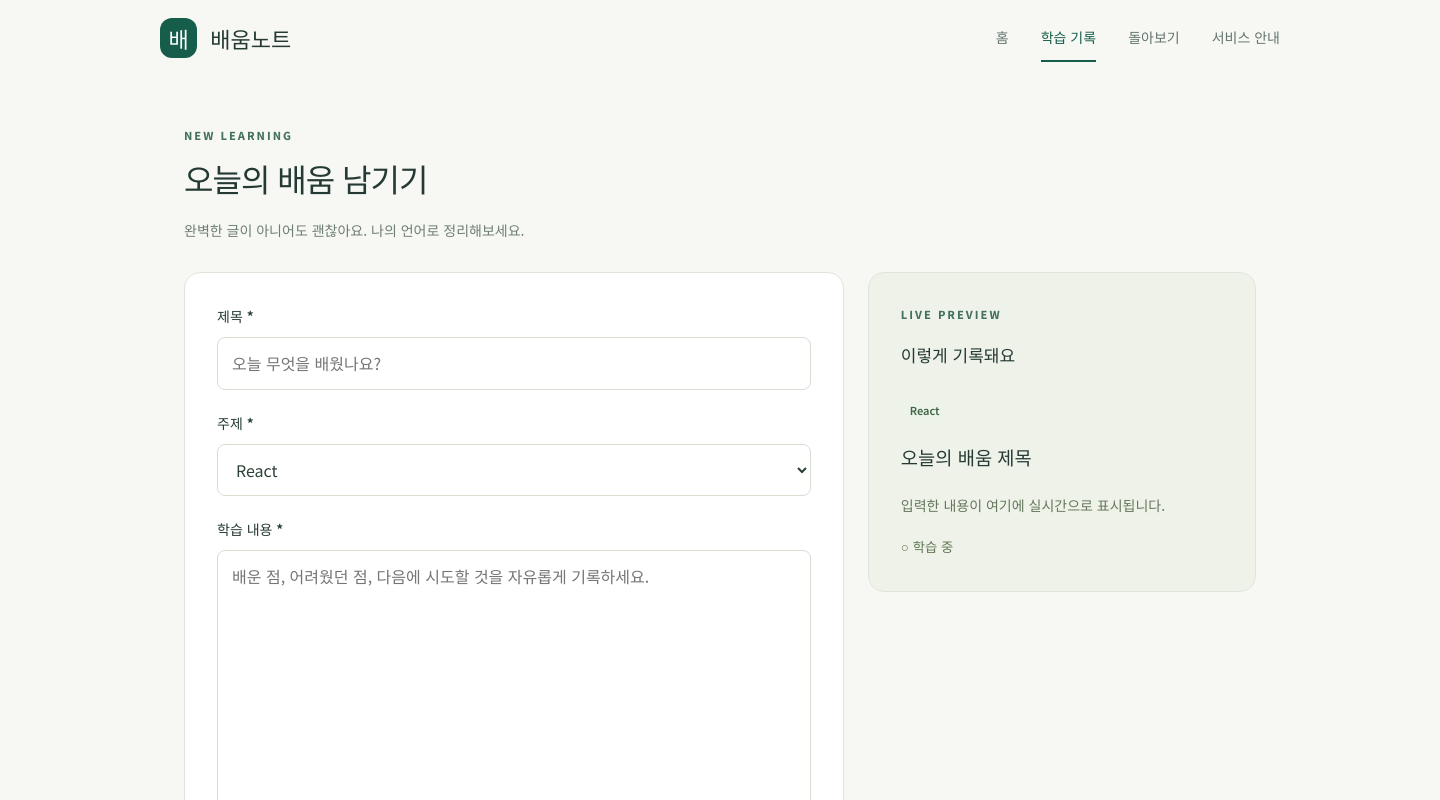
Test: 학습 기록 사용자 흐름 › 저장 실패 시 입력을 유지하고 재시도할 수 있다
The width and height of the screenshot is (1440, 800).
Type "제목" into the field labelled "제목 *". click: point(514, 363)
box: [217,337,811,390]
(page scrolled)
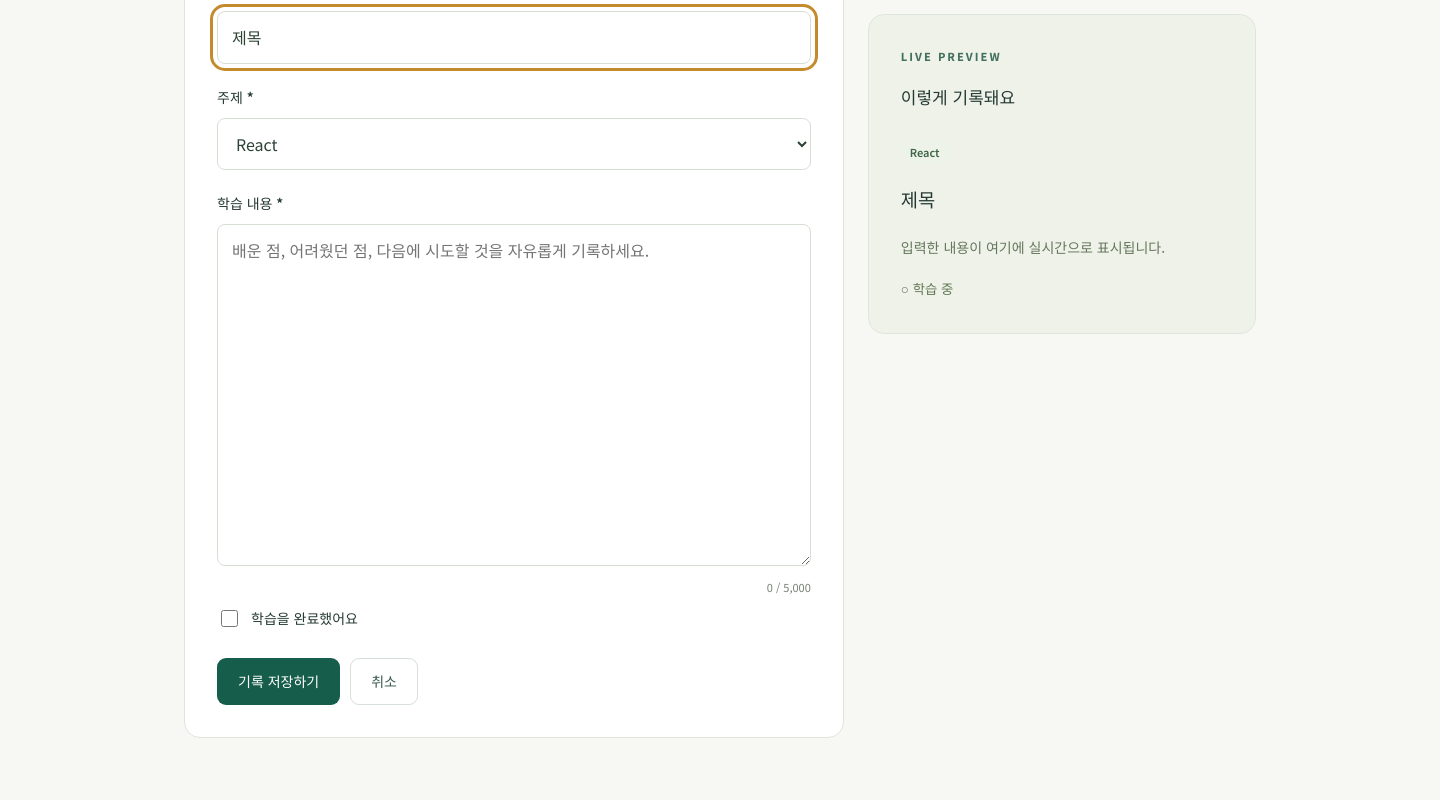
Type "내용" into the text box labelled "학습 내용 *". click: point(514, 395)
box: [217,224,811,566]
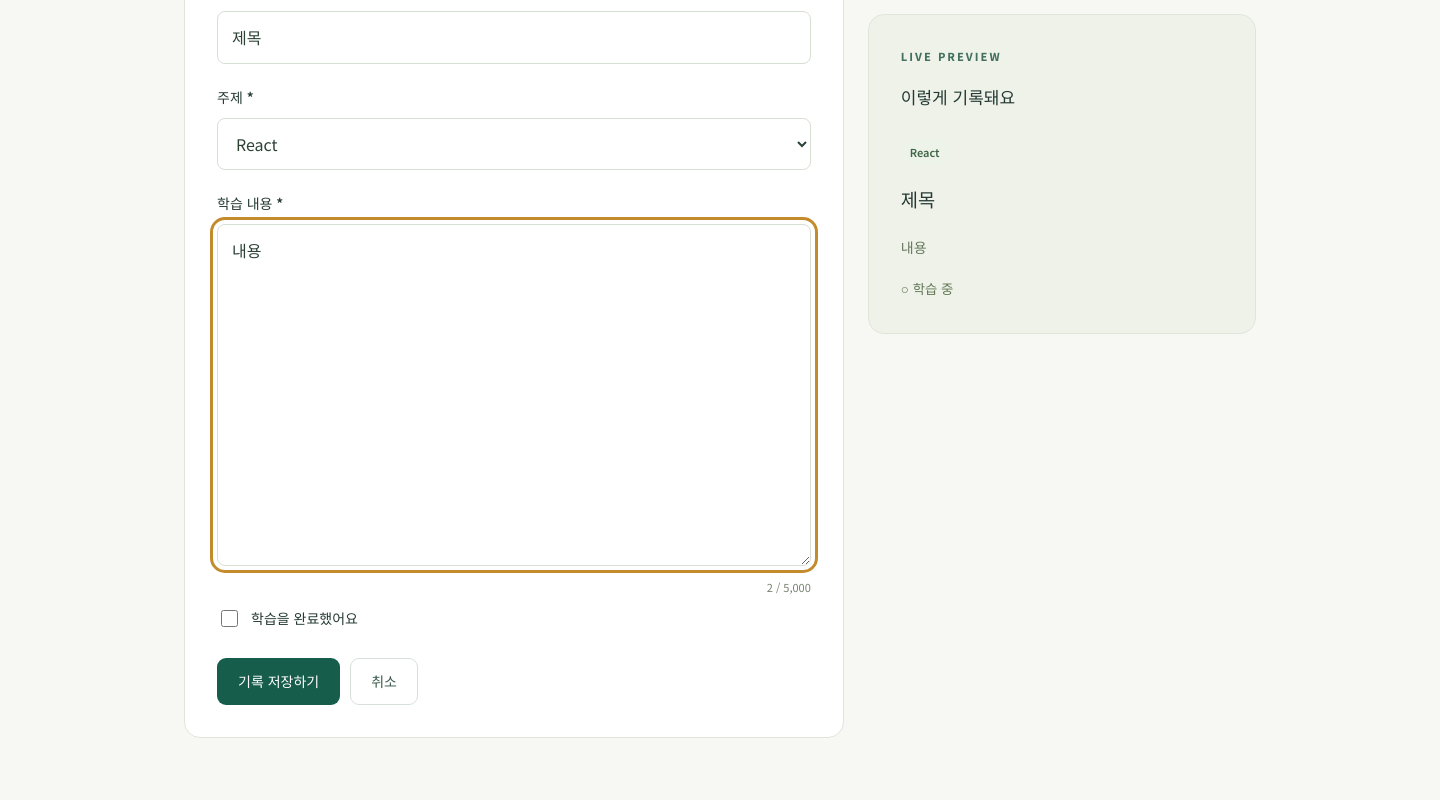
Click the button "기록 저장하기". click: point(279, 682)
box: [217,658,340,705]
(page scrolled)
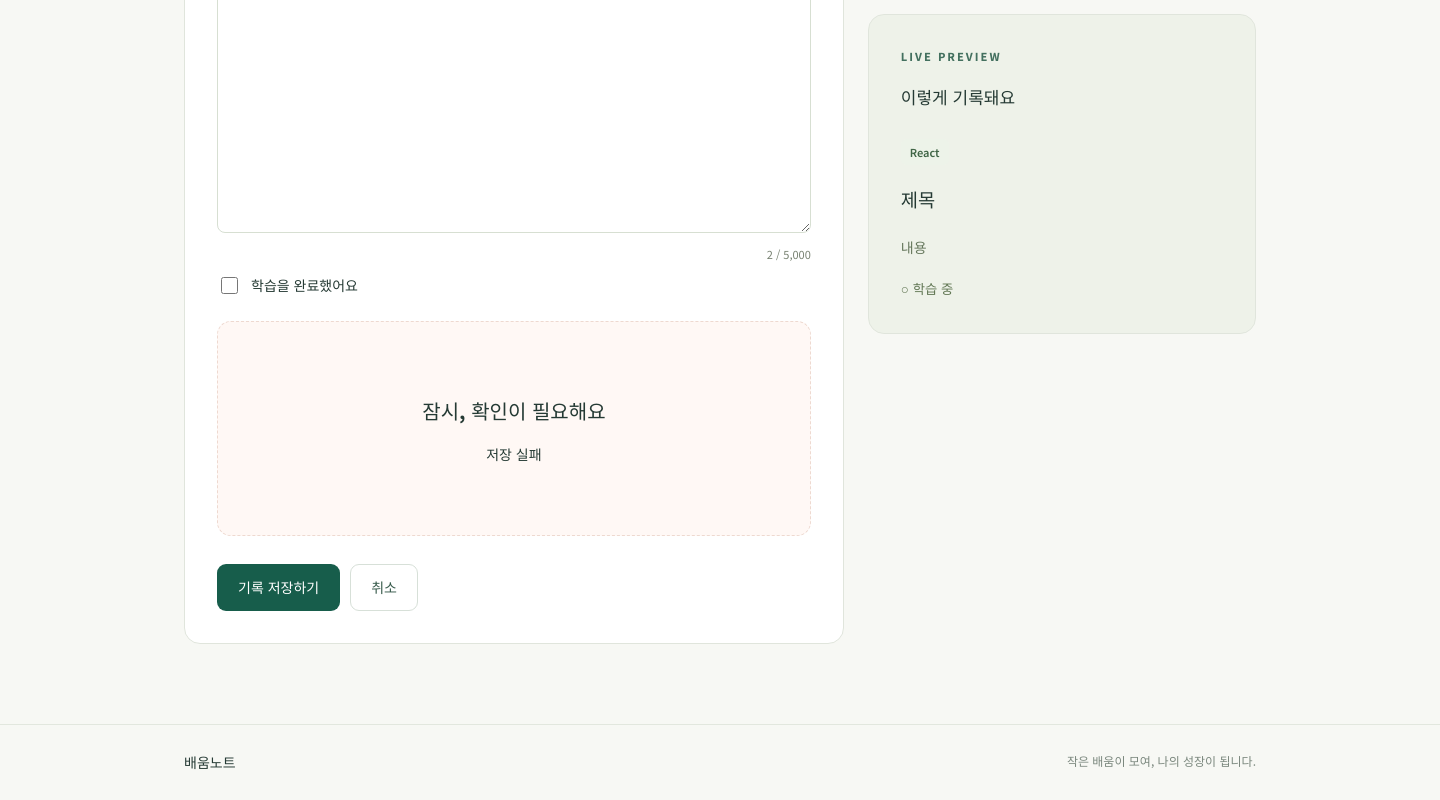
expect the button "기록 저장하기" is enabled: met, box [217,564,340,611]
expect the text "저장 실패" is shown: met, box [486,444,542,464]
